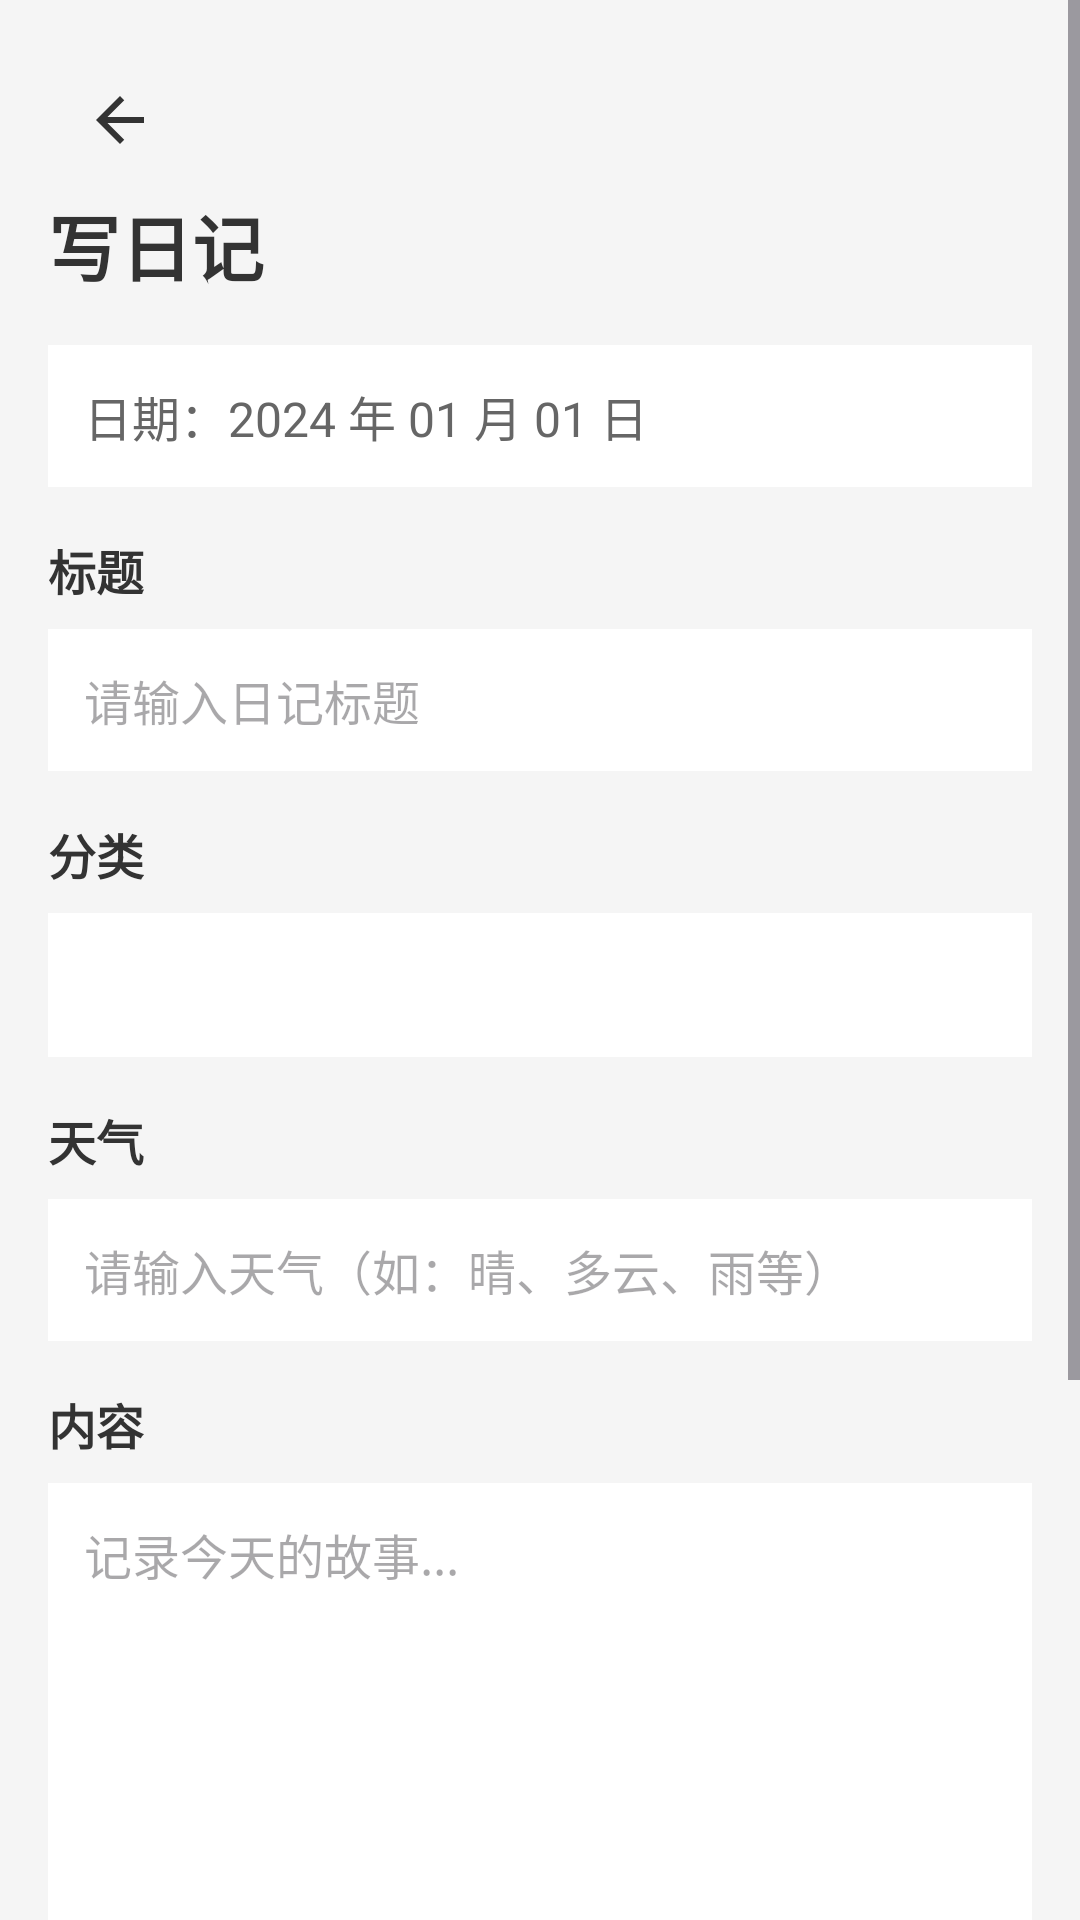

Icon bounding boxes for this 1080×1920 phone screenshot, format (x1, y1, x2, y2):
返回: (96, 96, 144, 144)
